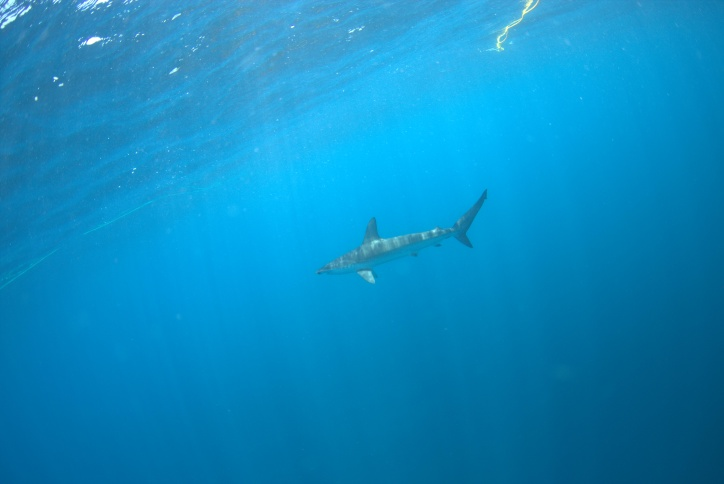Hammer: (293, 178, 503, 289)
